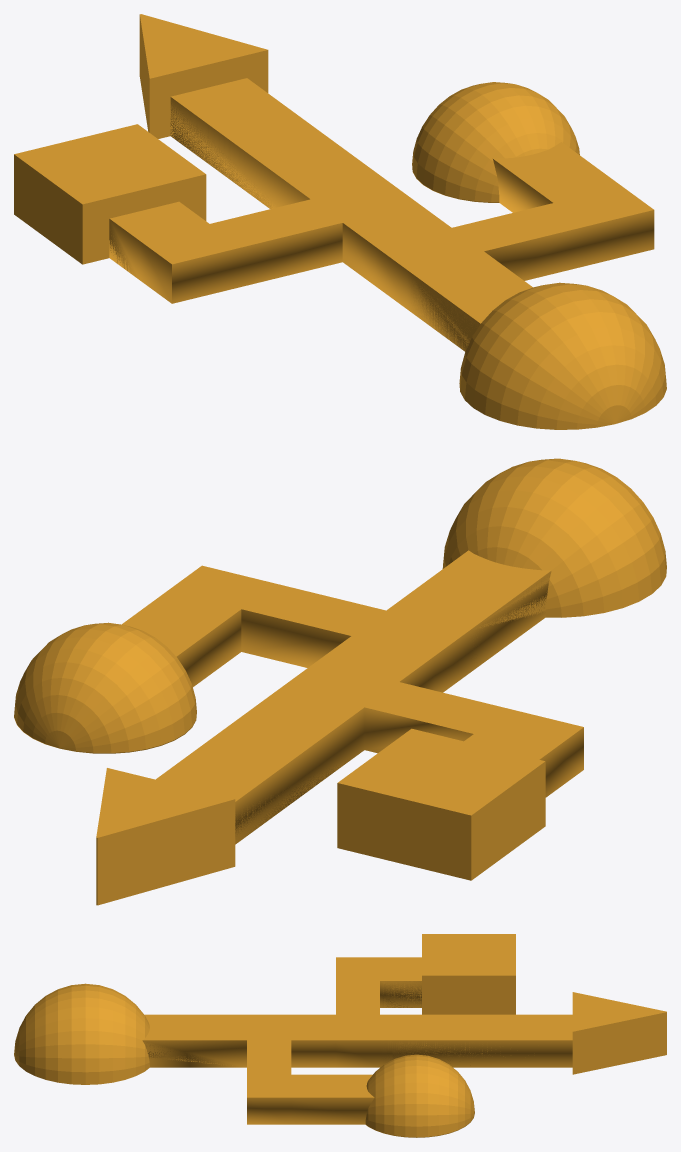
The picture shows the model from 3 angles, top to bottom: view 1: azimuth 30°, elevation 25°; view 2: azimuth 150°, elevation 25°; view 3: azimuth 270°, elevation 25°; orthographic projection. The views are drawn at different scales.
Visible parts, largest first — view 1: Sphere.025; view 2: Sphere.025; view 3: Sphere.025.
Boxes of the visible parts, bbox=[...] form: Sphere.025: bbox=[14, 14, 666, 429]; Sphere.025: bbox=[14, 458, 666, 905]; Sphere.025: bbox=[14, 934, 666, 1137].
Bounding box in the file's own units: 0.2492 × 0.0461 × 0.4237.
